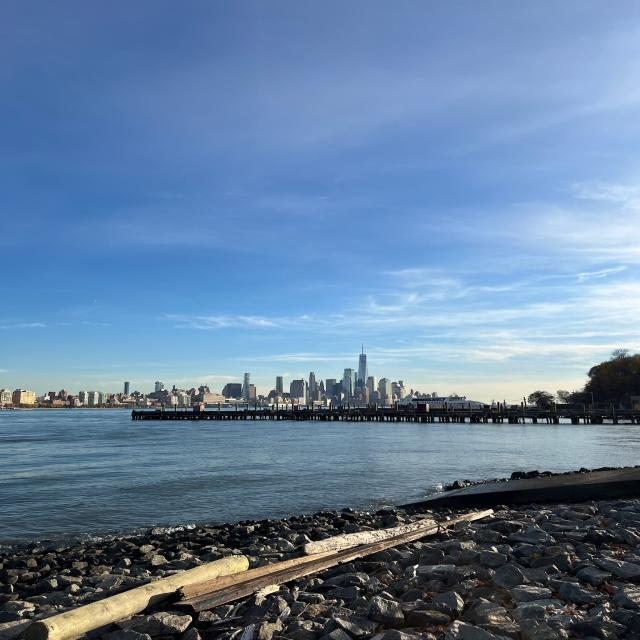WTC: (357, 340, 368, 387)
